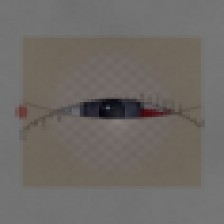hemorrhage_spot: (94, 84, 182, 155)
